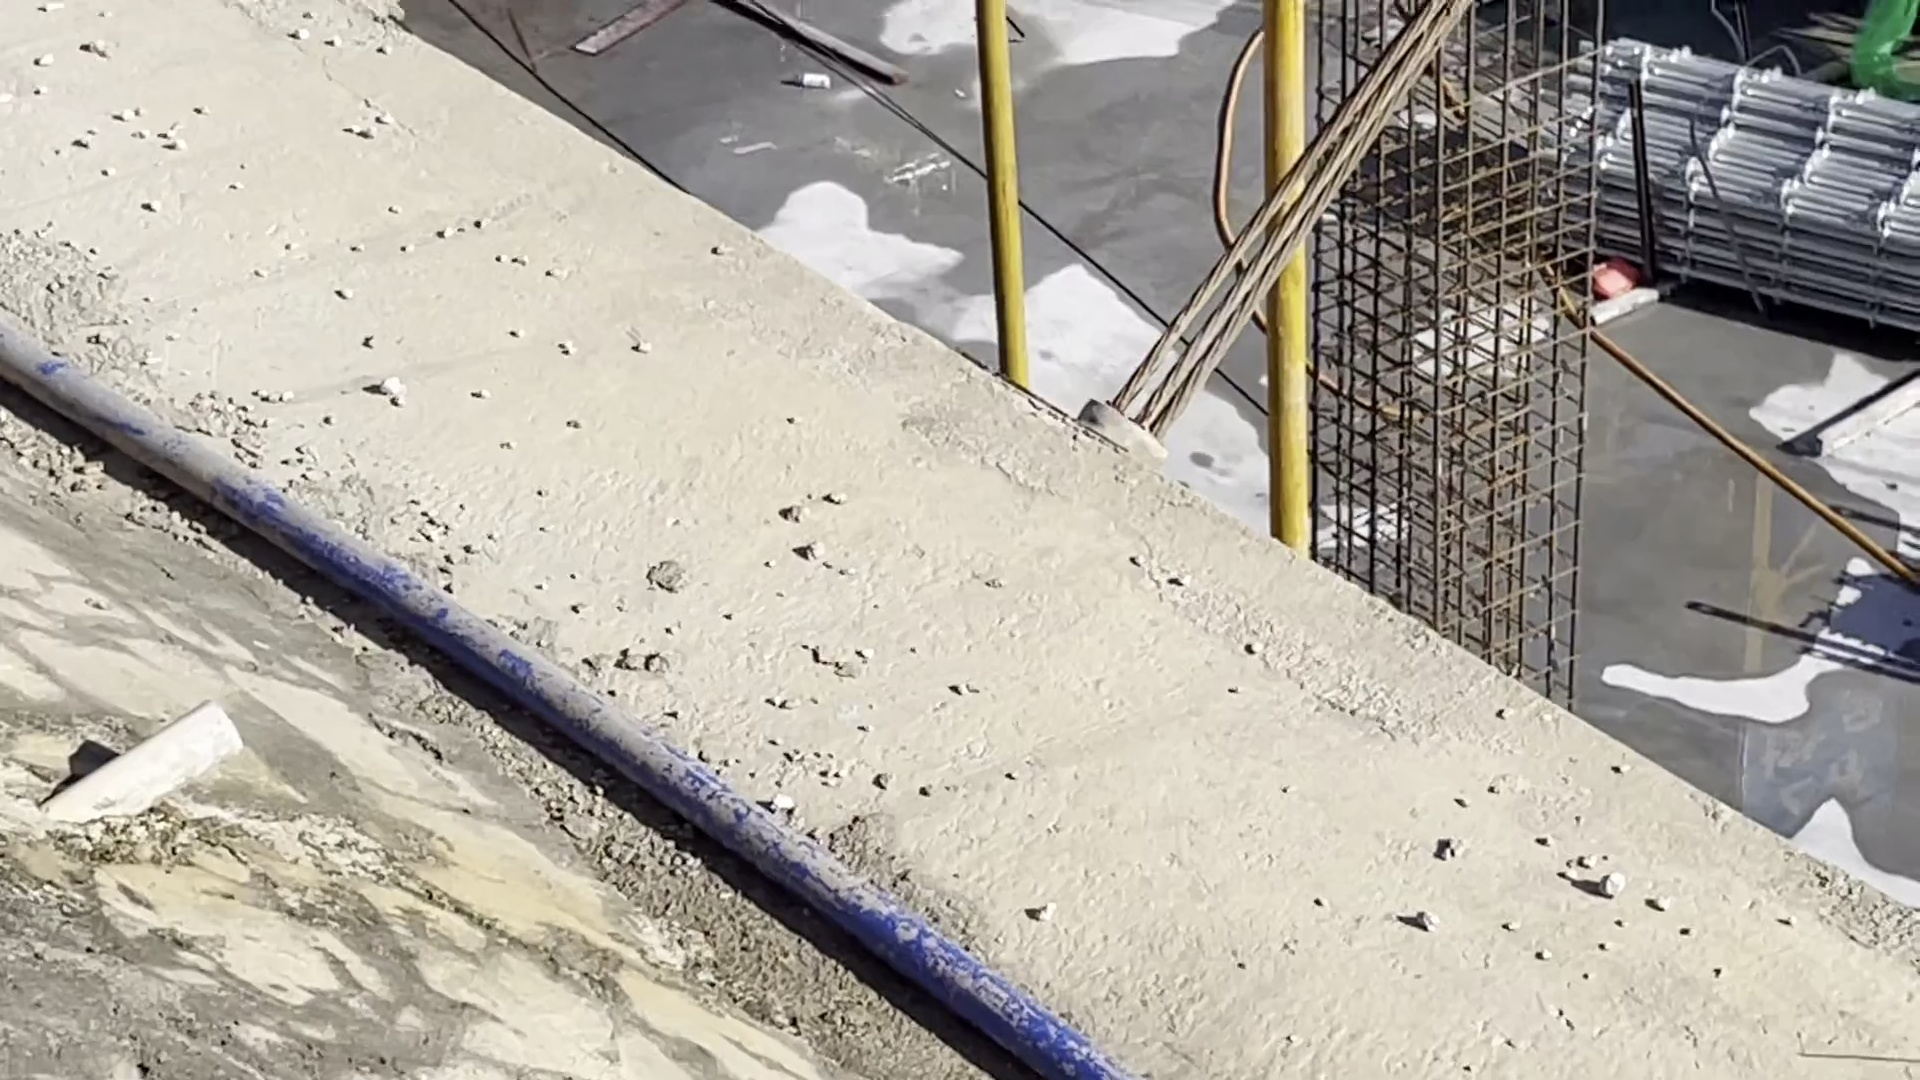scaffold: (1524, 30, 1920, 331)
